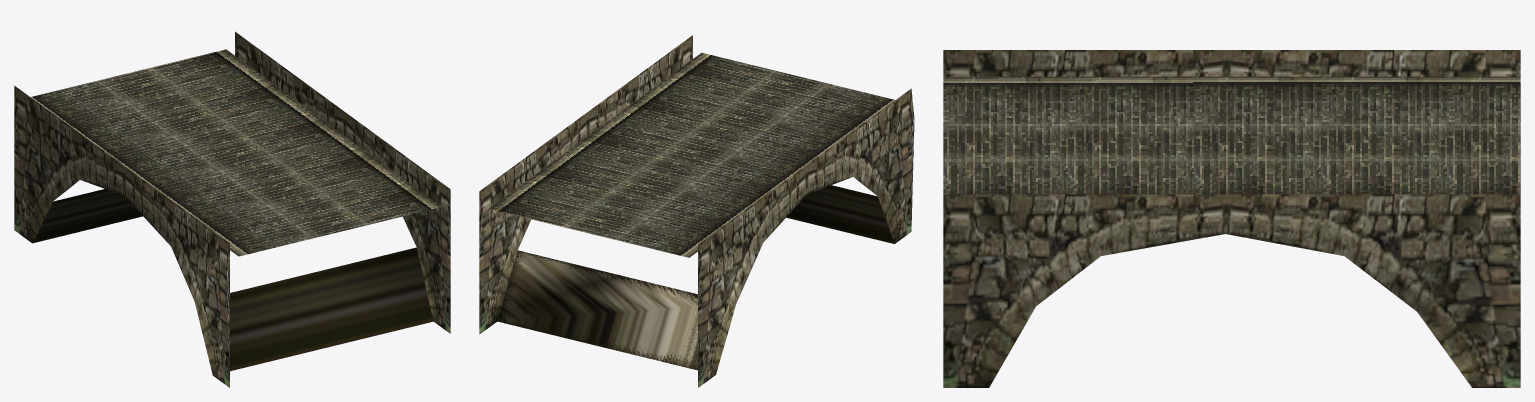
Rendered from Civilian - Civilian Building - Great Wall Large Arch - CMWalChna3.glb.
The picture shows the model from 3 angles, left to right: view 1: azimuth 30°, elevation 25°; view 2: azimuth 150°, elevation 25°; view 3: azimuth 270°, elevation 25°; orthographic projection. The views are drawn at different scales.
Visible parts, largest first — view 1: CMWALCHNA3; view 2: CMWALCHNA3; view 3: CMWALCHNA3.
Part boxes in pixels (x1,y1,x2,y2): CMWALCHNA3: (14,31,450,387); CMWALCHNA3: (479,35,914,387); CMWALCHNA3: (943,50,1520,387).
Size of the model in its own units: 59.67 by 43.6 by 99.21.
Materials: 4 (4 with a texture image).
